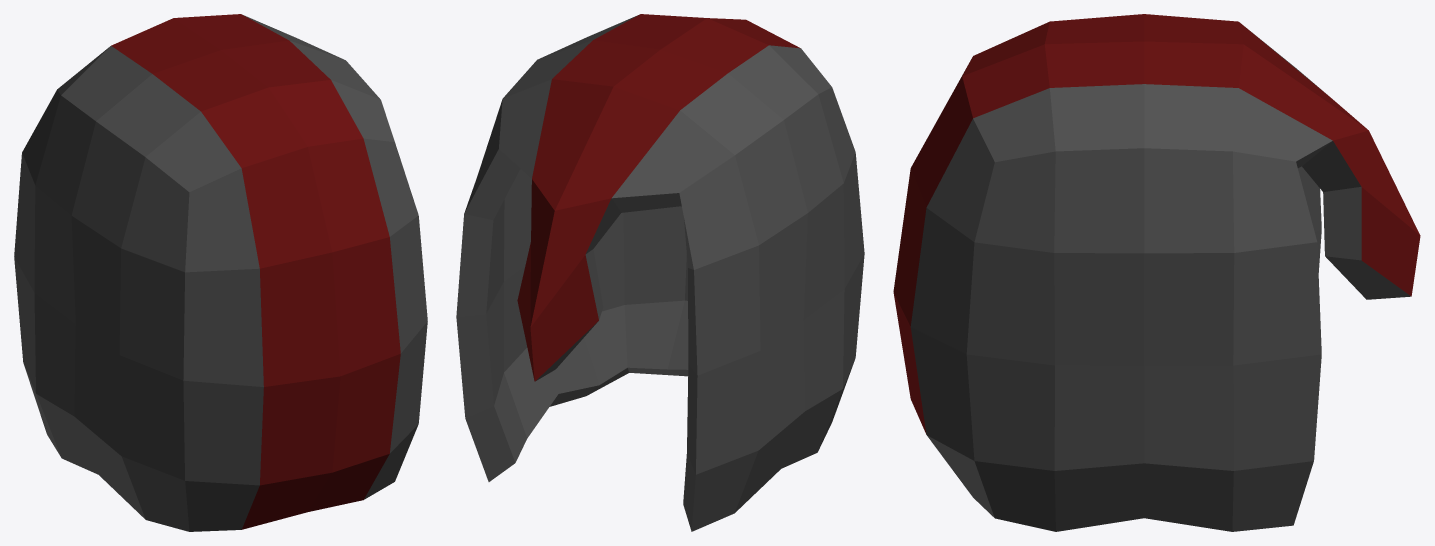
File: Helmet.glb
3 renders of one model, left to right at view 1: azimuth 30°, elevation 25°; view 2: azimuth 150°, elevation 25°; view 3: azimuth 270°, elevation 25°, orthographic. The views are drawn at different scales.
Parts seen in each view (by area): view 1: helmet; view 2: helmet; view 3: helmet.
Boxes of the visible parts, x1=… form: helmet: x1=14, y1=14, x2=427, y2=531; helmet: x1=456, y1=14, x2=864, y2=531; helmet: x1=893, y1=14, x2=1420, y2=531.
Size of the model in its own units: 0.2969 by 0.3906 by 0.4324.
